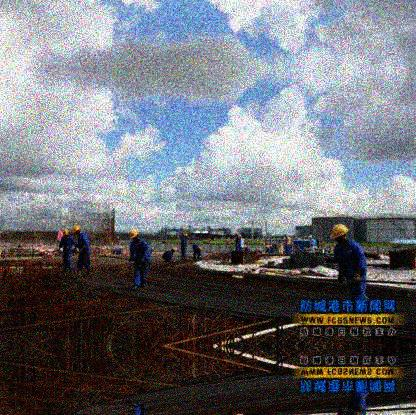helmet: (329, 222, 350, 244), (128, 230, 139, 241), (73, 225, 82, 236), (61, 229, 69, 238)
